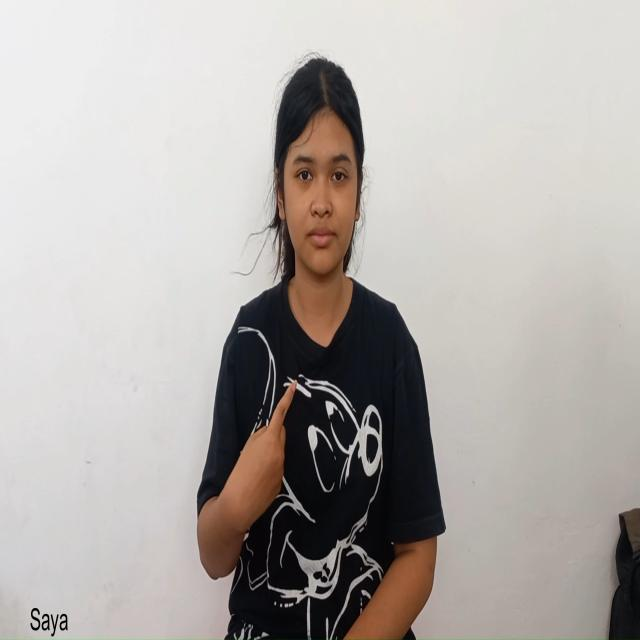Saya -BISINDO-: (190, 372, 306, 579)
